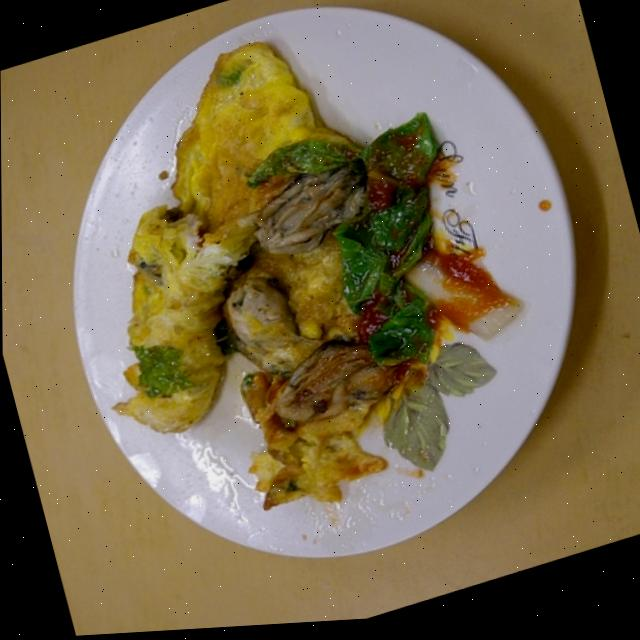熟制海鲜: (26, 0, 585, 556)
